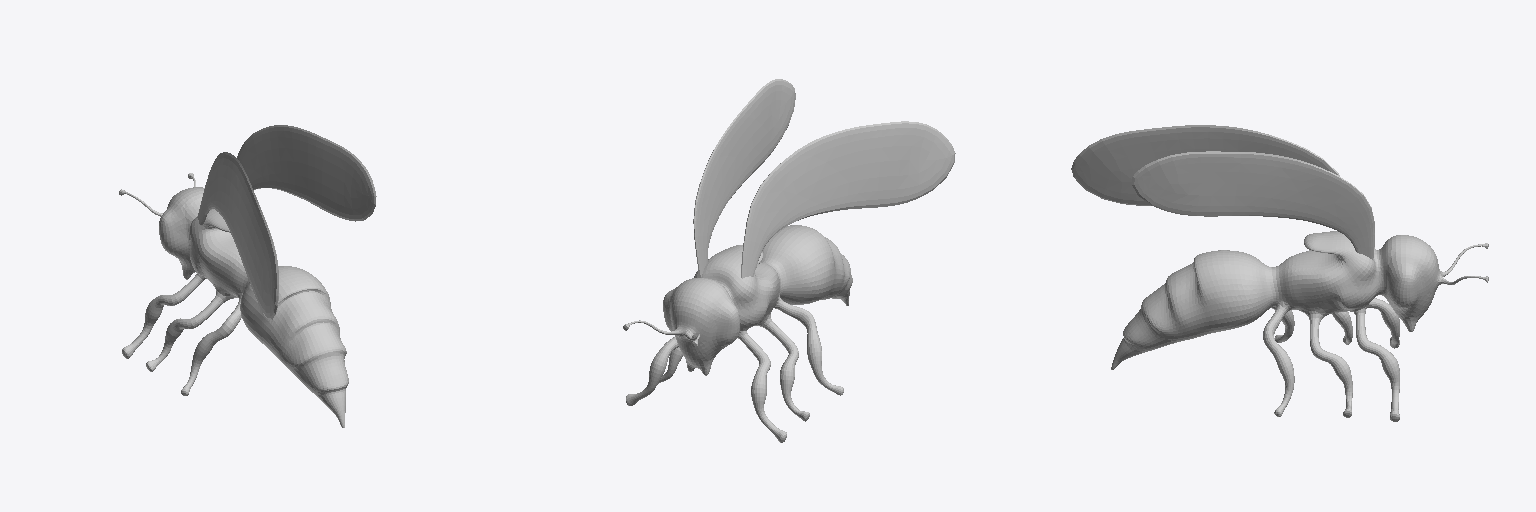
Rendered from bee.obj.
3 renders of one model, left to right at view 1: azimuth 30°, elevation 25°; view 2: azimuth 150°, elevation 25°; view 3: azimuth 270°, elevation 25°, orthographic.
Parts seen in each view (by area): view 1: bee:Group45076, bee:Group45077, bee:Group43208; view 2: bee:Group45076, bee:Group43208, bee:Group45077; view 3: bee:Group45076, bee:Group45077, bee:Group43208.
Boxes of the visible parts, x1,y1,x2,y2 form: bee:Group45076: [119, 173, 348, 427]; bee:Group45077: [237, 125, 376, 221]; bee:Group43208: [197, 152, 278, 319]; bee:Group45076: [623, 225, 852, 442]; bee:Group43208: [741, 121, 955, 278]; bee:Group45077: [693, 79, 795, 277]; bee:Group45076: [1111, 231, 1488, 421]; bee:Group45077: [1132, 151, 1374, 259]; bee:Group43208: [1071, 125, 1339, 205].
Size of the model in its own units: 80.47 by 117 by 173.